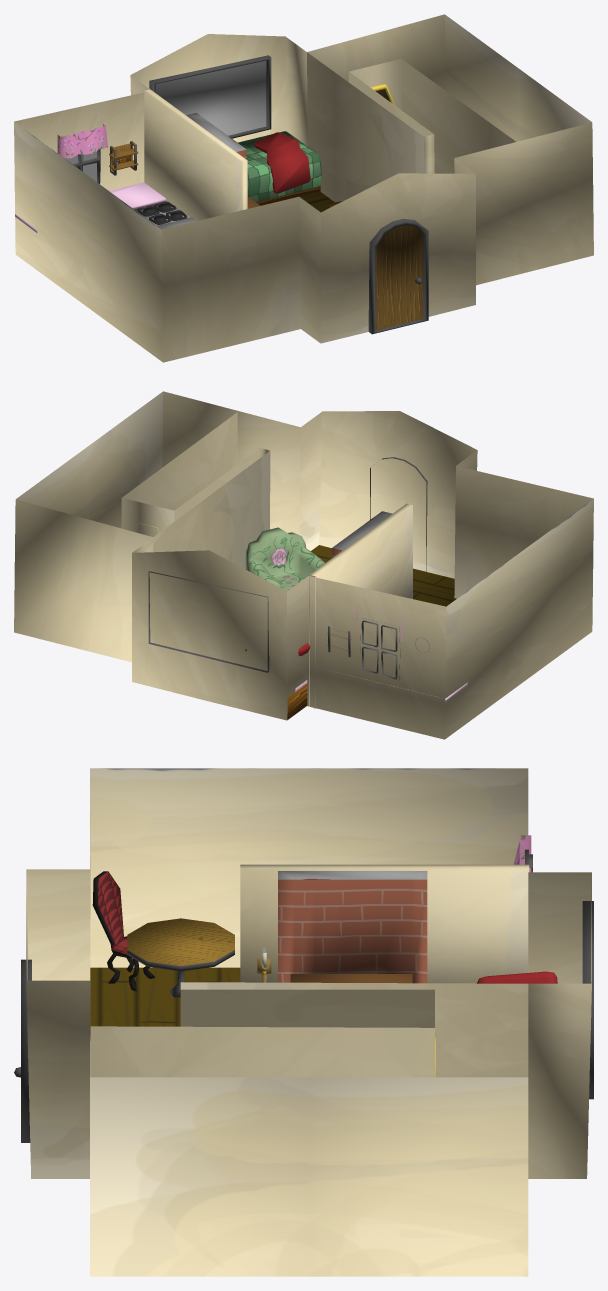
The model's file is cottageInterior.fbx.
3 renders of one model, top to bottom at view 1: azimuth 30°, elevation 25°; view 2: azimuth 150°, elevation 25°; view 3: azimuth 270°, elevation 25°, orthographic. The views are drawn at different scales.
Parts seen in each view (by area): view 1: Cottage INT, Big Window, FrontDoor, object 7, KWCurtain, Sink Counter, Oven, FirePlace, Shelf, KWindow; view 2: Cottage INT, Granny Chair, Big Window, KWindow, object 7, FirePlace; view 3: Cottage INT, FirePlace, Table, Chair, FrontDoor, Big Window, object 7.
Part boxes in pixels (<box>): Cottage INT: <box>14,14,593,362</box>; Big Window: <box>149,55,271,138</box>; FrontDoor: <box>368,219,428,334</box>; object 7: <box>238,131,321,205</box>; KWCurtain: <box>57,124,107,158</box>; Sink Counter: <box>15,182,165,232</box>; Oven: <box>135,201,189,225</box>; FirePlace: <box>186,113,260,208</box>; Shelf: <box>109,141,138,175</box>; KWindow: <box>64,149,100,183</box>; Cottage INT: <box>14,391,593,739</box>; Granny Chair: <box>245,527,324,591</box>; Big Window: <box>148,571,269,672</box>; KWindow: <box>360,618,400,680</box>; object 7: <box>245,643,310,719</box>; FirePlace: <box>332,511,392,557</box>; Cottage INT: <box>26,768,591,1276</box>; FirePlace: <box>278,871,427,983</box>; Table: <box>127,918,234,997</box>; Chair: <box>92,871,154,991</box>; FrontDoor: <box>14,959,31,1142</box>; Big Window: <box>582,901,593,1099</box>; object 7: <box>477,971,557,983</box>.
Size of the model in its own units: 2857 by 978 by 2235.
